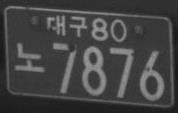0: (109, 17, 127, 43)
6: (138, 49, 165, 102)
7: (51, 41, 79, 94), (109, 45, 136, 99)
8: (81, 45, 107, 97), (90, 16, 109, 42)
노: (13, 41, 46, 73)
대구_O: (46, 14, 88, 37)
